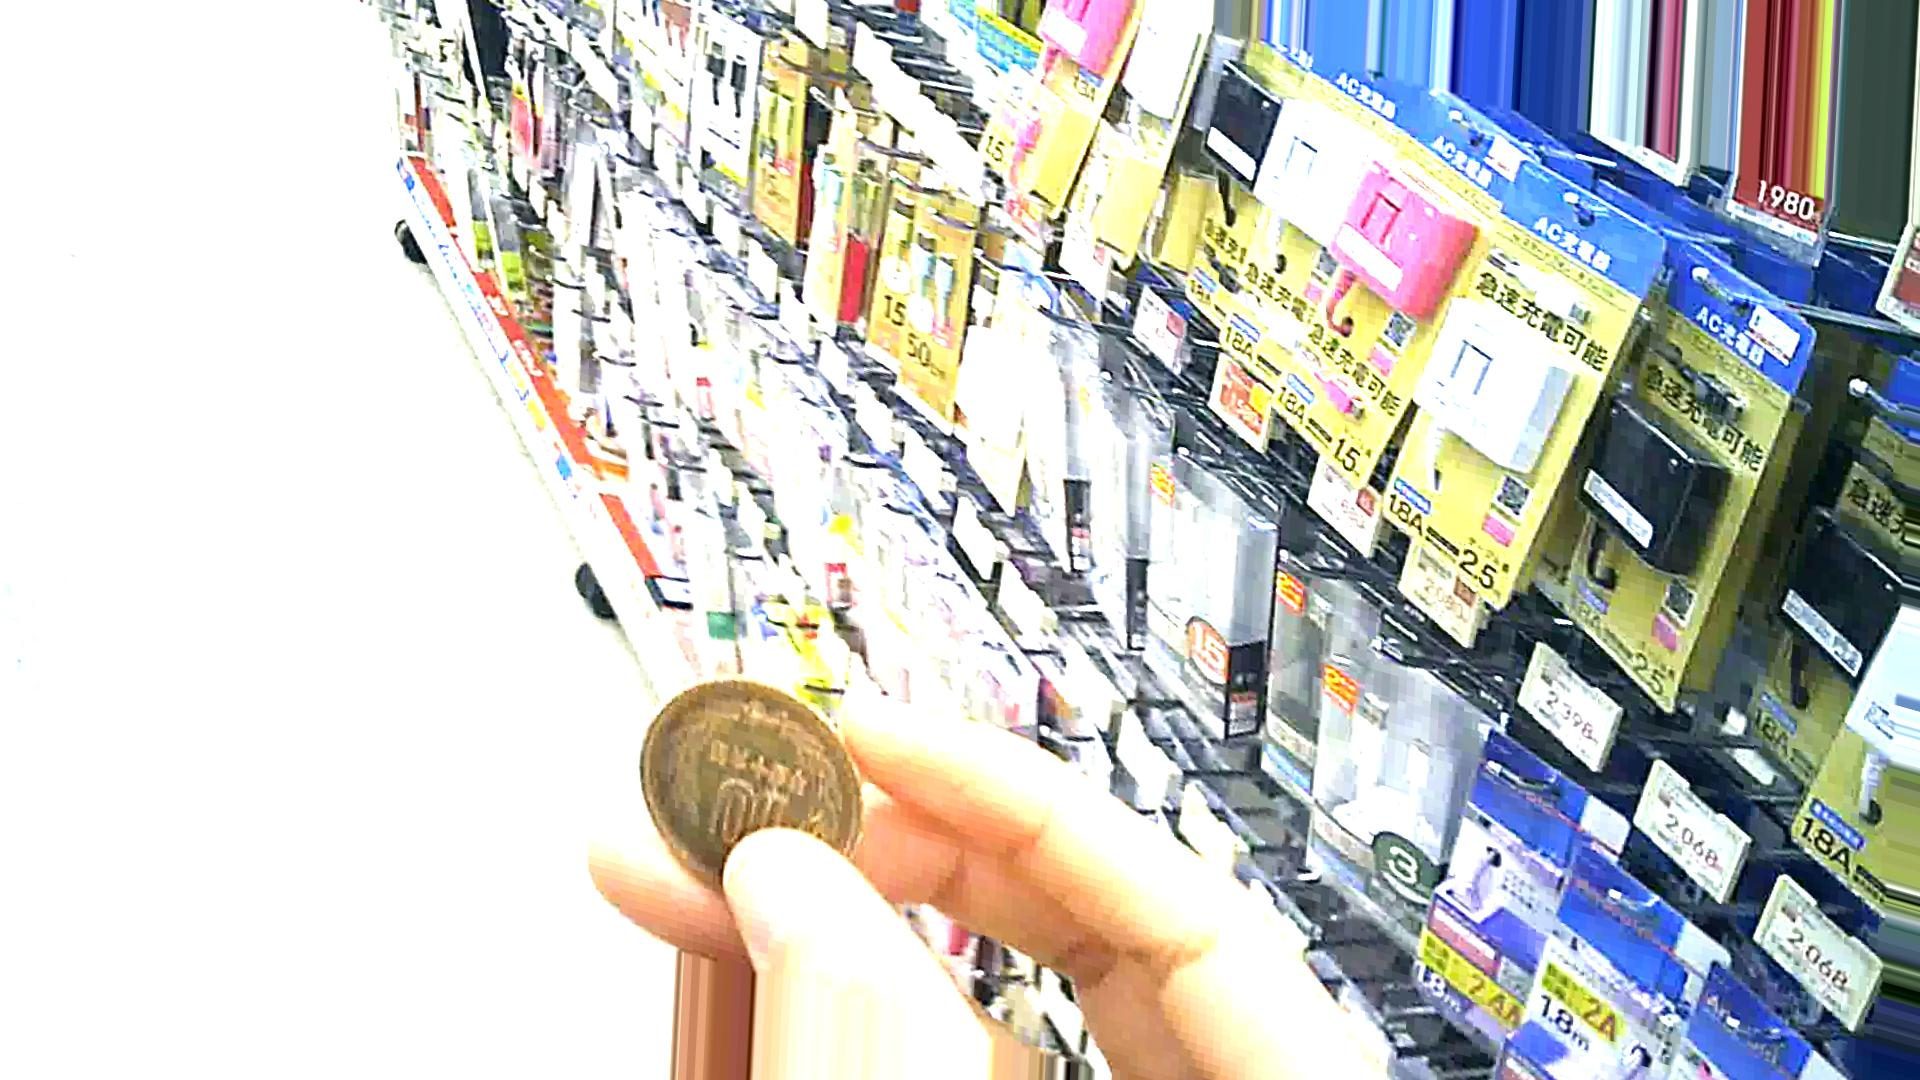10 Yen: (630, 675, 865, 902)
